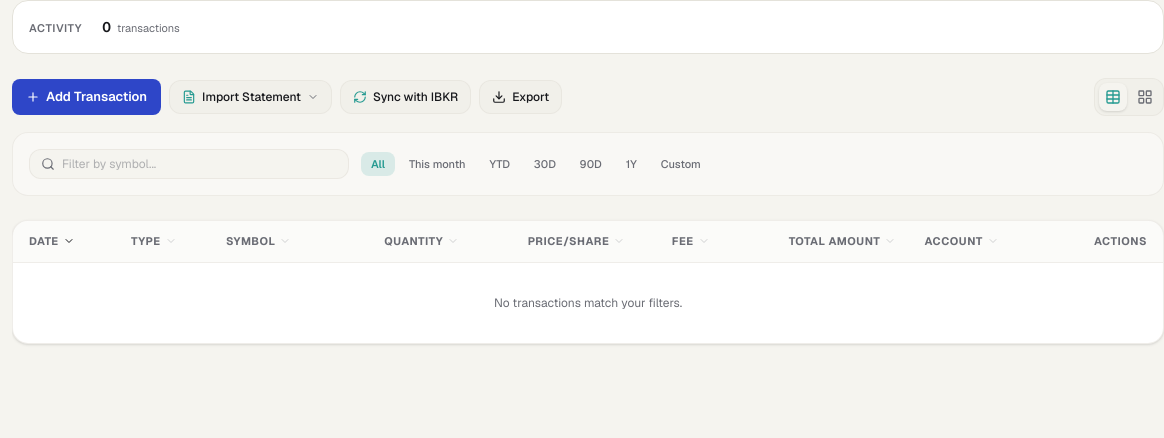
Test: Transactions IBKR Sync › TransactionsTable integration › displays error message when syncIbkr fails
The width and height of the screenshot is (1164, 438).
Click the button "Sync with IBKR": (406, 97) x1=340 y1=80 x2=471 y2=114
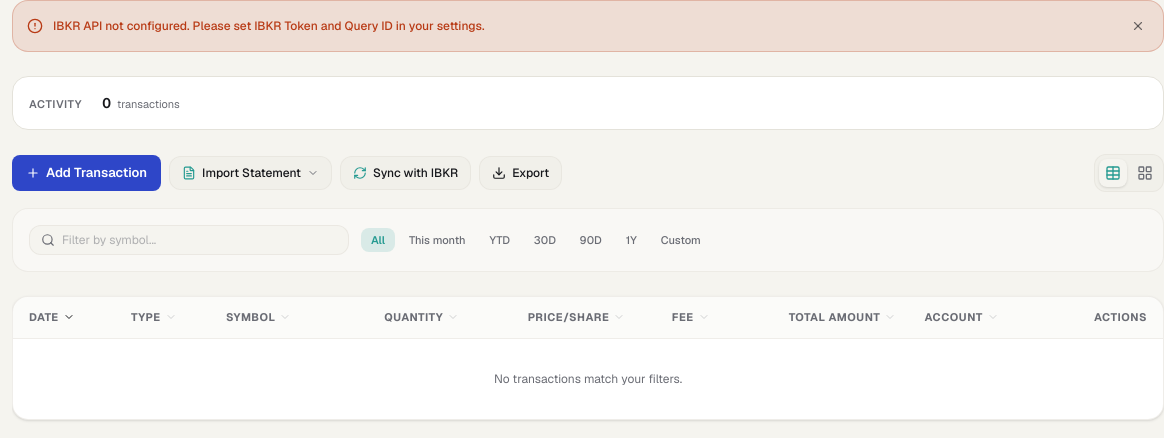
Now the text "IBKR API not configured. Please set IBKR Token and Query ID in your settings." is shown, box x1=53 y1=18 x2=484 y2=34
